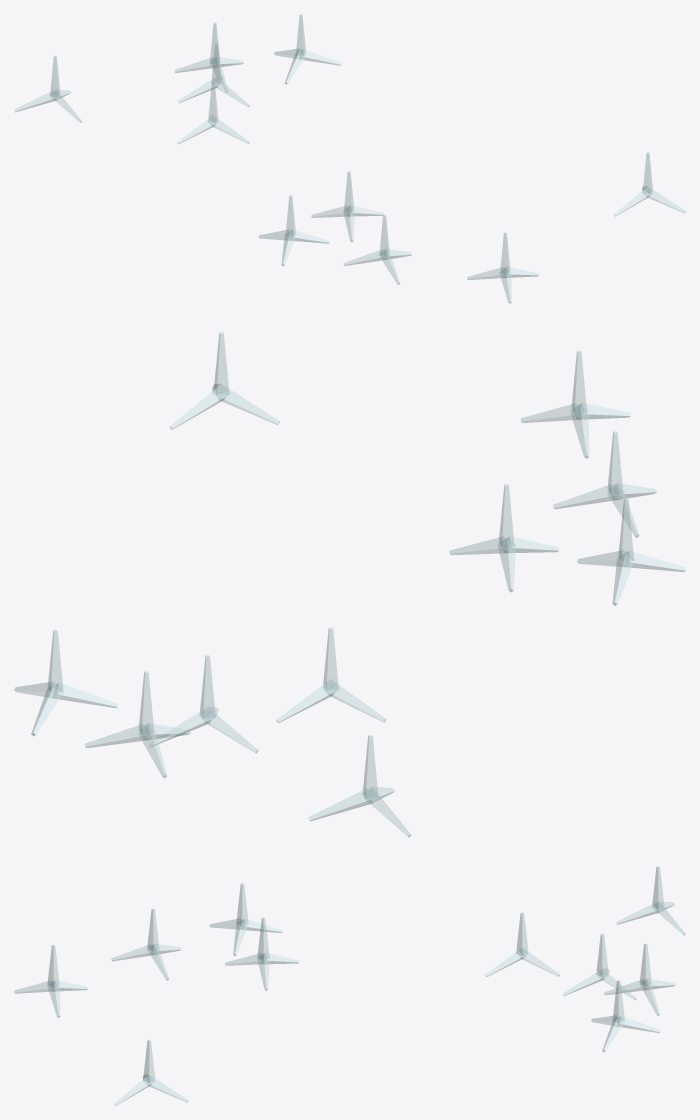
File: tr_caltrops_glass.glb
3 renders of one model, top to bottom at view 1: azimuth 30°, elevation 25°; view 2: azimuth 150°, elevation 25°; view 3: azimuth 270°, elevation 25°, orthographic. The views are drawn at different scales.
Size of the model in its own units: 0.5328 by 0.0684 by 0.7511.
1 material, 1 textured.
